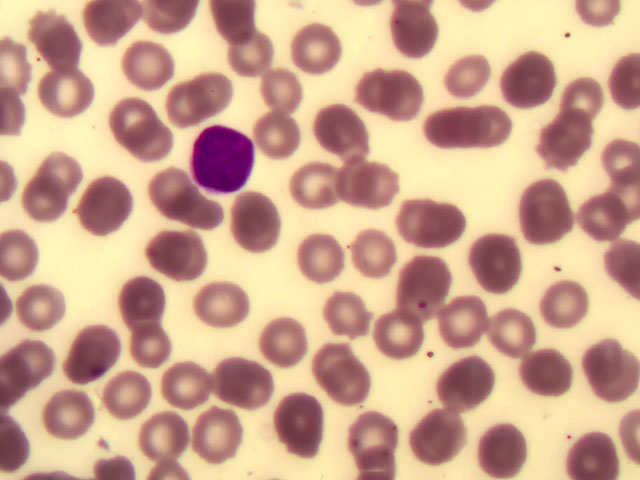RBC: (34, 58, 93, 120), (28, 12, 87, 74), (82, 2, 141, 64), (114, 32, 173, 94), (102, 80, 161, 142), (114, 117, 173, 179), (70, 173, 129, 235), (35, 138, 94, 200), (23, 168, 82, 230), (12, 271, 71, 333), (8, 328, 67, 390), (58, 324, 117, 386), (48, 376, 107, 438), (111, 268, 170, 330), (120, 306, 179, 368), (105, 364, 164, 426), (135, 403, 194, 465), (157, 355, 216, 417), (188, 408, 247, 470), (215, 350, 274, 412), (195, 267, 254, 329), (148, 223, 207, 285), (141, 157, 200, 219), (171, 182, 230, 244), (228, 187, 287, 249), (248, 105, 307, 167), (258, 64, 317, 126), (227, 28, 286, 90), (192, 59, 251, 121), (153, 78, 212, 140), (285, 21, 344, 83), (308, 101, 367, 163), (359, 160, 418, 222), (337, 158, 396, 220), (285, 161, 344, 223), (288, 231, 347, 293), (349, 218, 408, 280), (373, 186, 432, 248), (421, 192, 480, 254), (463, 232, 522, 294), (396, 251, 455, 313), (369, 294, 428, 356), (317, 286, 376, 348), (312, 348, 371, 410), (260, 317, 319, 379), (275, 391, 334, 453), (335, 401, 394, 463), (408, 408, 467, 470), (436, 355, 495, 417), (432, 288, 491, 350), (475, 299, 534, 361), (505, 329, 564, 391), (538, 277, 597, 339), (525, 197, 584, 259), (521, 175, 580, 237), (536, 115, 595, 177), (546, 78, 605, 140), (499, 49, 558, 111), (437, 48, 496, 110), (405, 94, 464, 156), (455, 97, 514, 159), (381, 65, 440, 127), (355, 59, 414, 121), (387, 7, 446, 69), (581, 329, 640, 391), (563, 418, 622, 480), (476, 418, 535, 480), (1, 232, 59, 294)
WBC: (192, 126, 254, 192)
